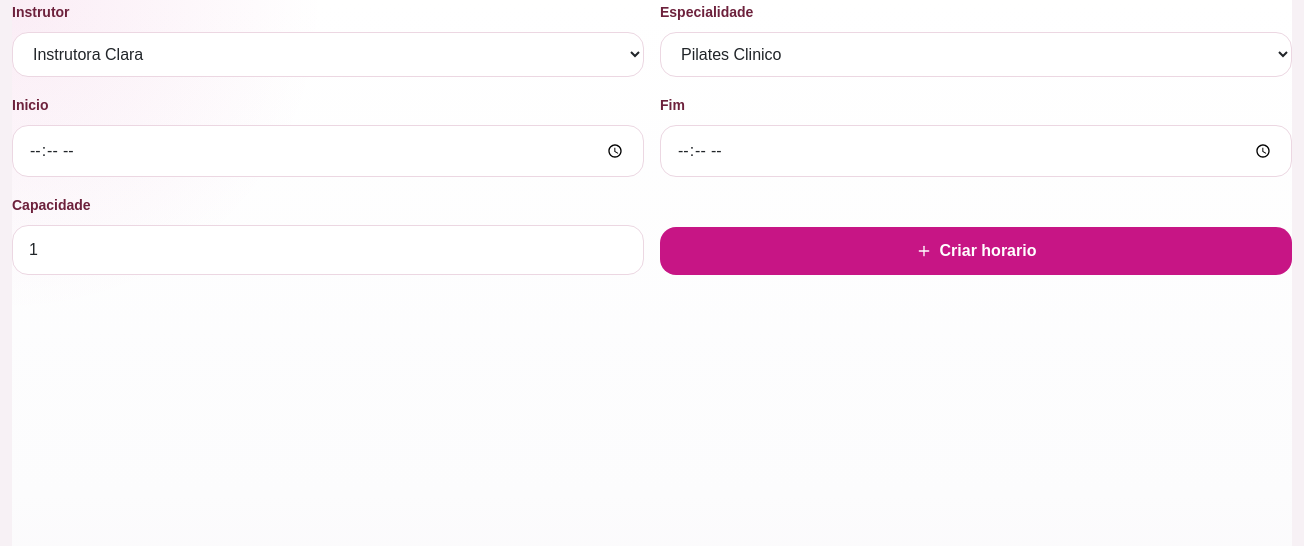
CreateSlotForm › protege contra submissão duplicada (duplo clique rápido)
In the time field labelled "Inicio": (328, 151) [12, 125, 644, 177], type "08:00"
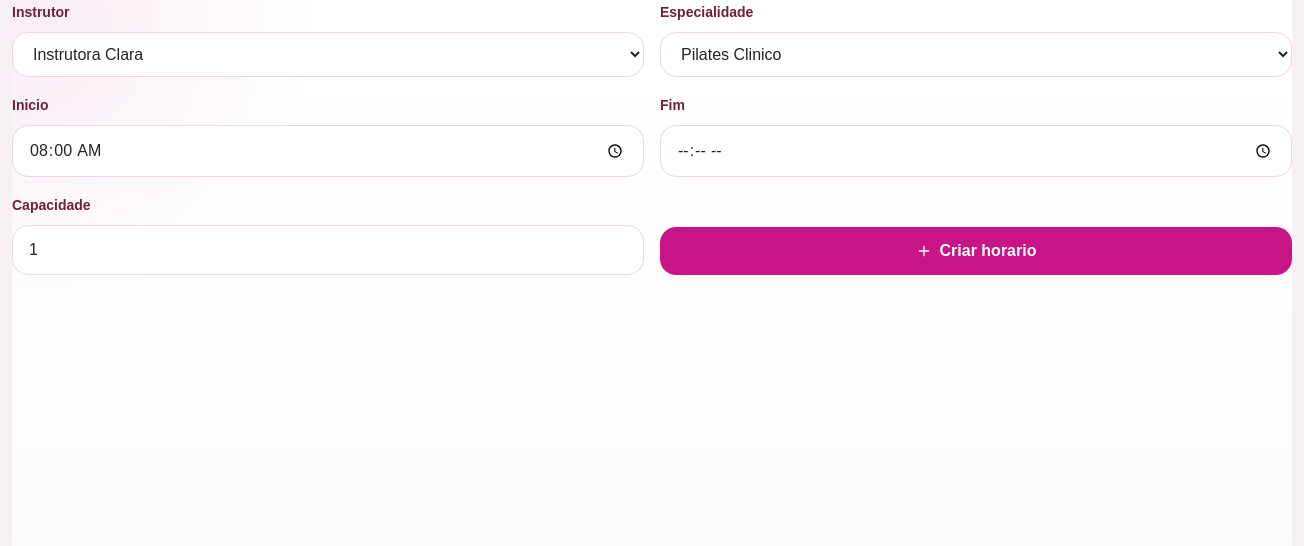
In the time field labelled "Fim": (976, 151) [660, 125, 1292, 177], type "09:00"
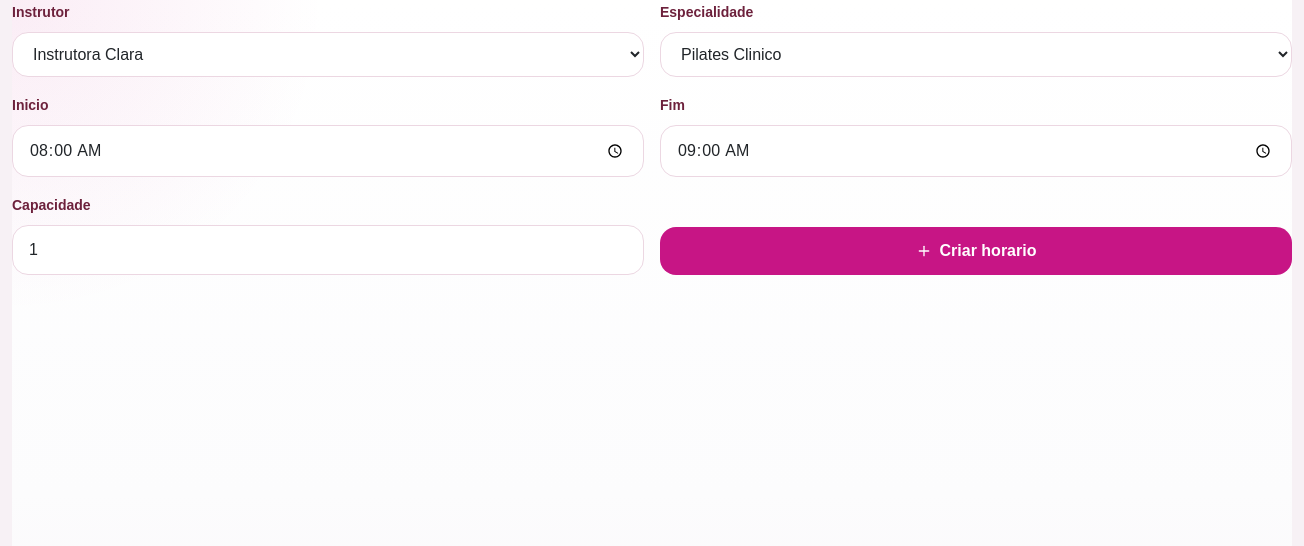
Note: Dispara duplo submit instantâneo
Submit the form "Criar horario", box [12, 0, 1292, 275]
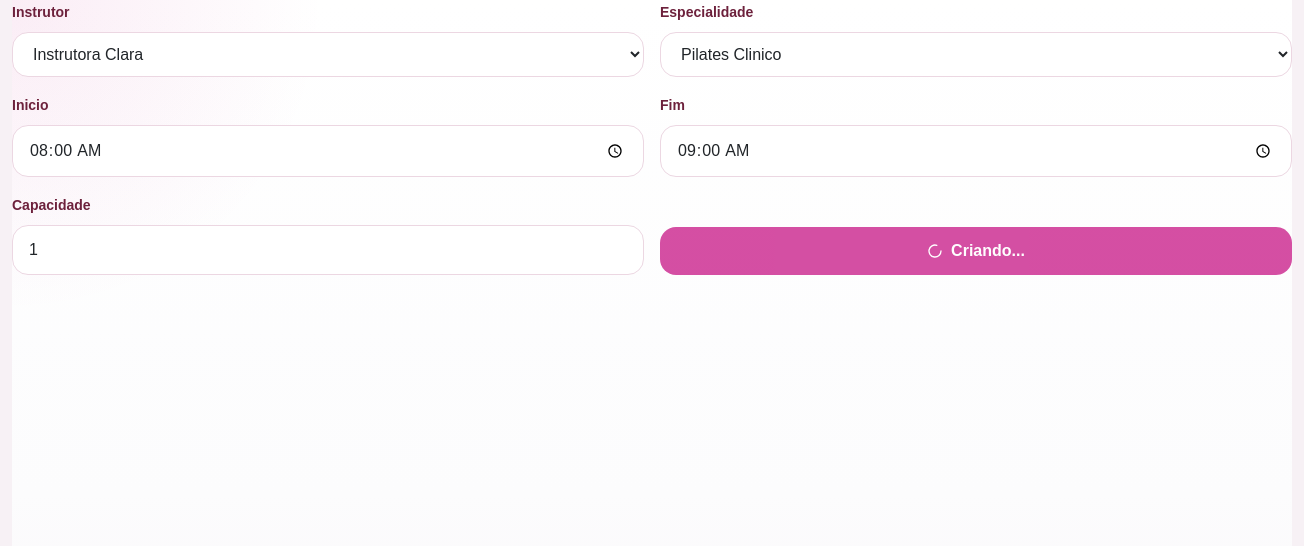
Submit the form named "Criar horario", box [12, 0, 1292, 275]
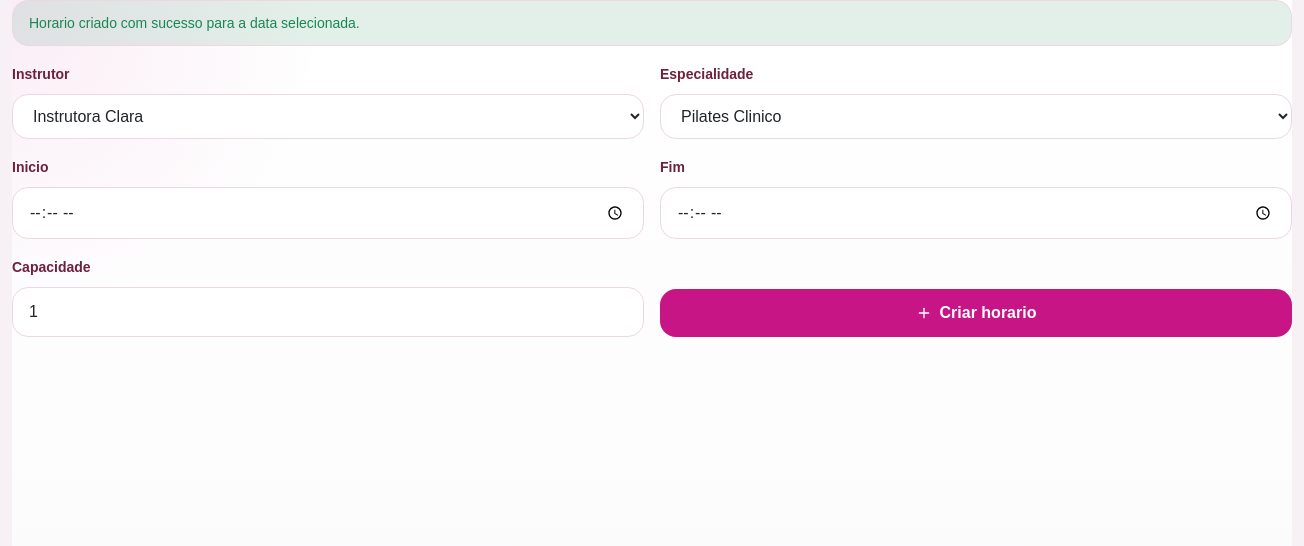
Expected: the message reads "Horario criado com sucesso para a data selecionada.", [29, 15, 360, 31]
